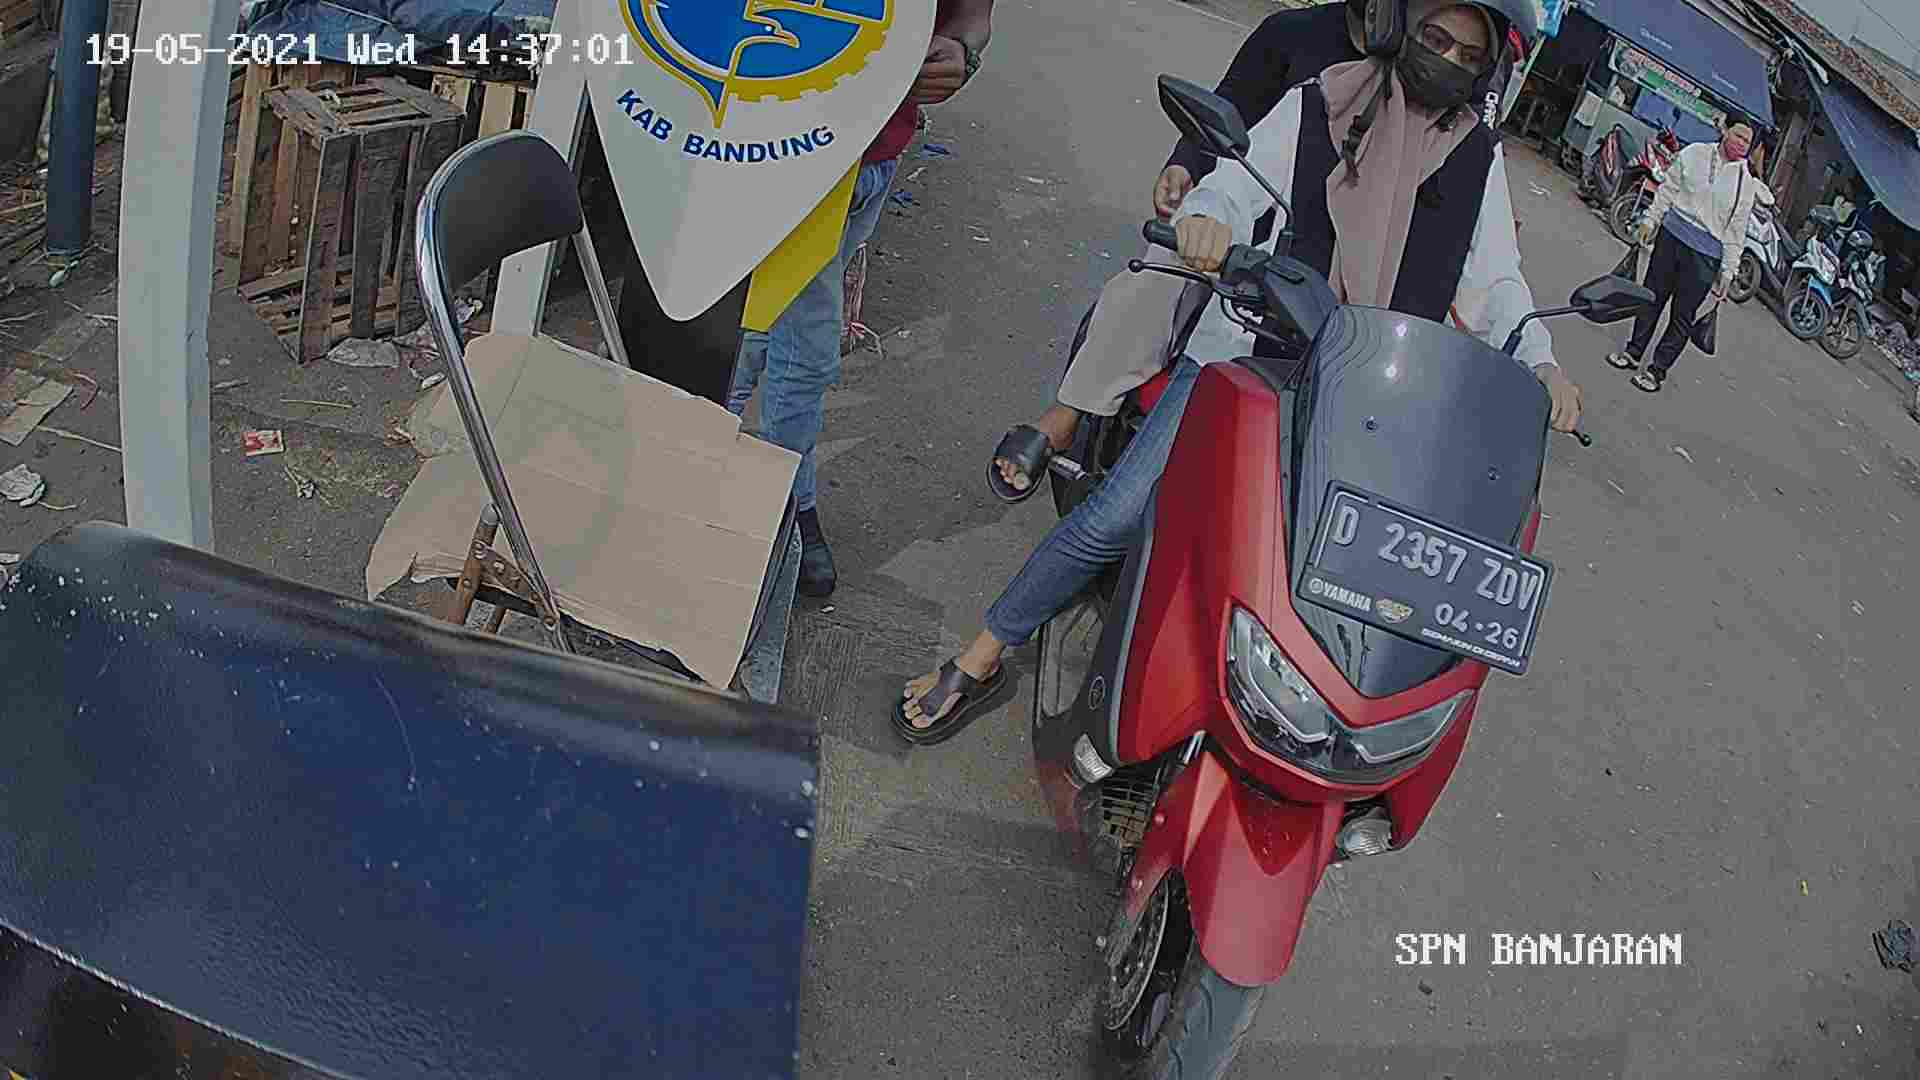motor: (1030, 237, 1520, 1080)
